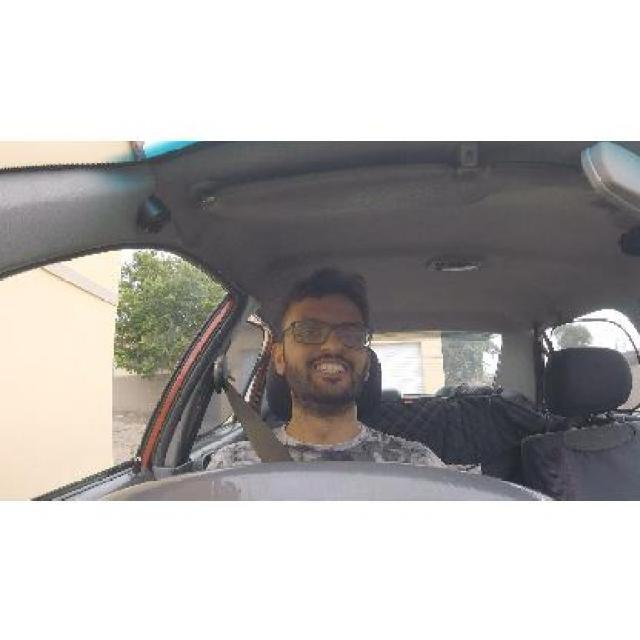person: (274, 283, 378, 405)
